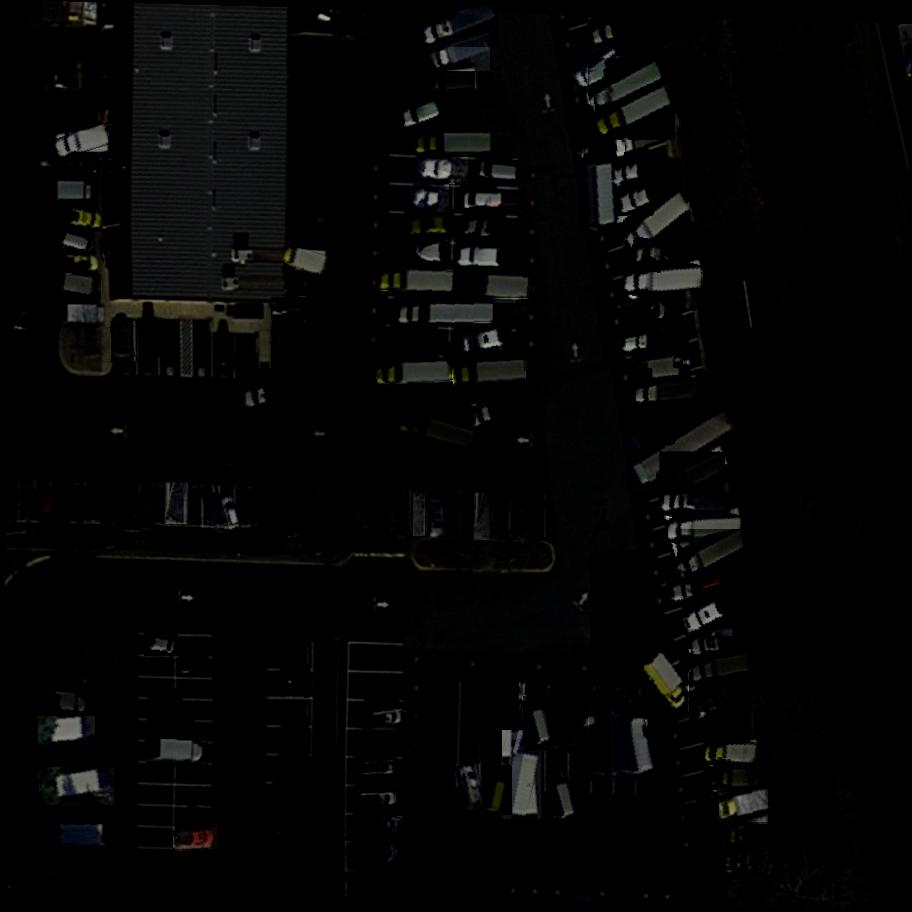large-vehicle: (630, 411, 742, 494), (595, 85, 677, 141), (623, 192, 694, 256), (586, 58, 665, 115), (674, 529, 753, 583), (611, 695, 658, 781), (665, 563, 753, 607), (590, 688, 630, 781), (420, 2, 499, 49), (503, 731, 543, 822), (480, 673, 520, 763), (606, 114, 684, 160), (658, 453, 729, 503), (689, 673, 755, 726), (398, 410, 479, 453), (642, 649, 698, 711), (589, 5, 664, 48), (467, 393, 545, 433), (583, 141, 618, 228), (40, 767, 116, 806), (548, 688, 589, 753), (690, 624, 762, 659), (430, 34, 492, 74), (244, 378, 315, 412), (451, 357, 528, 388), (396, 302, 495, 325), (622, 267, 703, 294), (54, 125, 112, 161), (377, 359, 452, 386), (691, 655, 754, 687), (634, 379, 700, 409), (718, 790, 774, 824), (415, 131, 493, 155), (668, 519, 744, 543), (381, 269, 455, 293), (38, 717, 96, 747), (456, 275, 533, 297), (725, 848, 779, 878), (422, 69, 477, 98), (146, 740, 207, 765), (56, 823, 111, 850), (664, 494, 734, 515), (635, 355, 686, 381), (43, 689, 91, 716), (56, 275, 102, 303), (721, 824, 773, 848), (712, 769, 766, 791), (706, 744, 759, 765), (47, 180, 93, 202), (58, 306, 105, 327)
small-vehicle: (573, 46, 626, 90), (618, 326, 691, 357), (683, 597, 734, 636), (278, 488, 310, 542), (547, 771, 579, 823), (523, 696, 553, 751), (282, 247, 330, 281), (481, 766, 513, 817), (400, 98, 447, 131), (455, 765, 486, 813), (397, 241, 451, 268), (417, 158, 469, 185), (301, 488, 329, 538), (615, 182, 655, 217), (454, 245, 504, 272), (271, 785, 313, 817), (200, 482, 228, 529), (461, 327, 507, 355), (491, 492, 517, 541), (272, 814, 314, 844), (395, 330, 445, 355), (506, 677, 530, 729), (319, 488, 346, 534), (134, 484, 162, 528), (474, 493, 499, 542), (54, 228, 96, 257), (110, 320, 138, 363), (411, 183, 451, 213), (274, 756, 314, 786), (404, 217, 453, 241), (391, 492, 415, 541), (516, 498, 543, 541), (362, 706, 406, 732), (461, 215, 500, 244), (117, 482, 141, 529), (374, 488, 397, 536), (165, 481, 189, 527), (218, 490, 243, 534), (272, 342, 309, 371), (173, 828, 217, 852), (250, 488, 273, 533), (360, 490, 384, 533), (366, 844, 405, 870), (477, 161, 521, 184), (266, 488, 288, 534), (64, 208, 103, 233), (360, 813, 402, 836), (101, 483, 124, 525), (213, 333, 237, 373), (279, 672, 314, 699), (63, 485, 88, 522), (463, 191, 503, 214), (633, 418, 681, 437), (51, 481, 72, 523), (140, 319, 162, 359), (271, 298, 309, 321), (359, 757, 397, 780), (57, 255, 98, 276), (144, 634, 179, 657), (272, 317, 304, 342), (358, 790, 396, 810), (610, 161, 643, 184), (632, 244, 665, 267), (637, 302, 669, 325), (177, 658, 211, 677), (344, 492, 359, 535), (460, 496, 476, 535), (38, 480, 53, 520), (413, 493, 426, 536), (238, 488, 252, 527), (431, 496, 443, 540), (86, 482, 99, 520)
